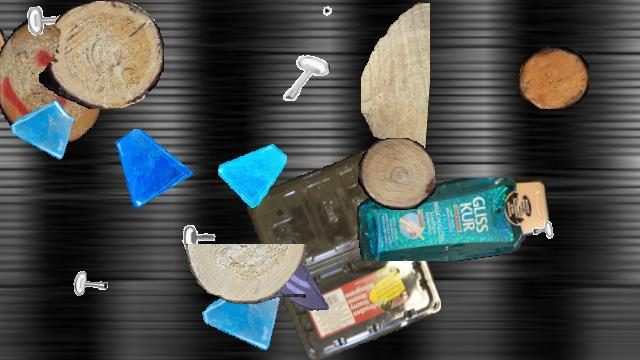glass: (200, 275, 284, 359), (113, 129, 193, 209), (254, 234, 334, 314), (9, 97, 77, 165), (218, 139, 286, 207)
metal: (21, 1, 81, 61), (67, 247, 119, 299), (279, 52, 329, 102), (180, 206, 226, 252), (523, 197, 567, 241), (322, 1, 362, 41)
plastic: (247, 149, 441, 359), (357, 178, 549, 260)
wood: (39, 1, 163, 109), (0, 20, 103, 142), (361, 1, 429, 159), (186, 244, 306, 304), (358, 138, 436, 210), (519, 47, 589, 109), (0, 1, 11, 129)
